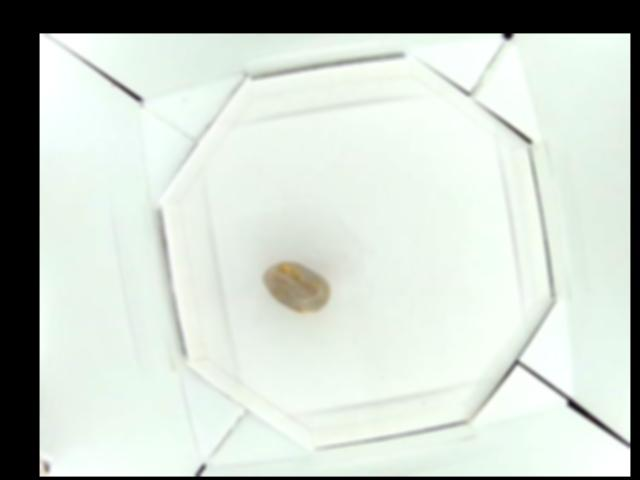Pebble: (261, 263, 331, 314)
